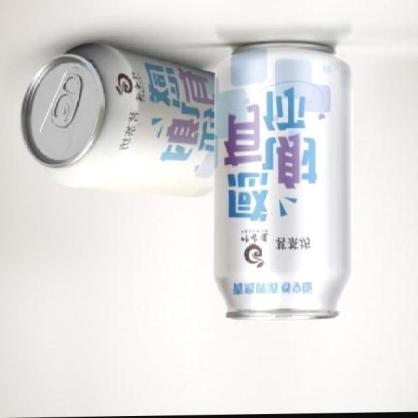can: (213, 41, 355, 327), (15, 43, 214, 205)
